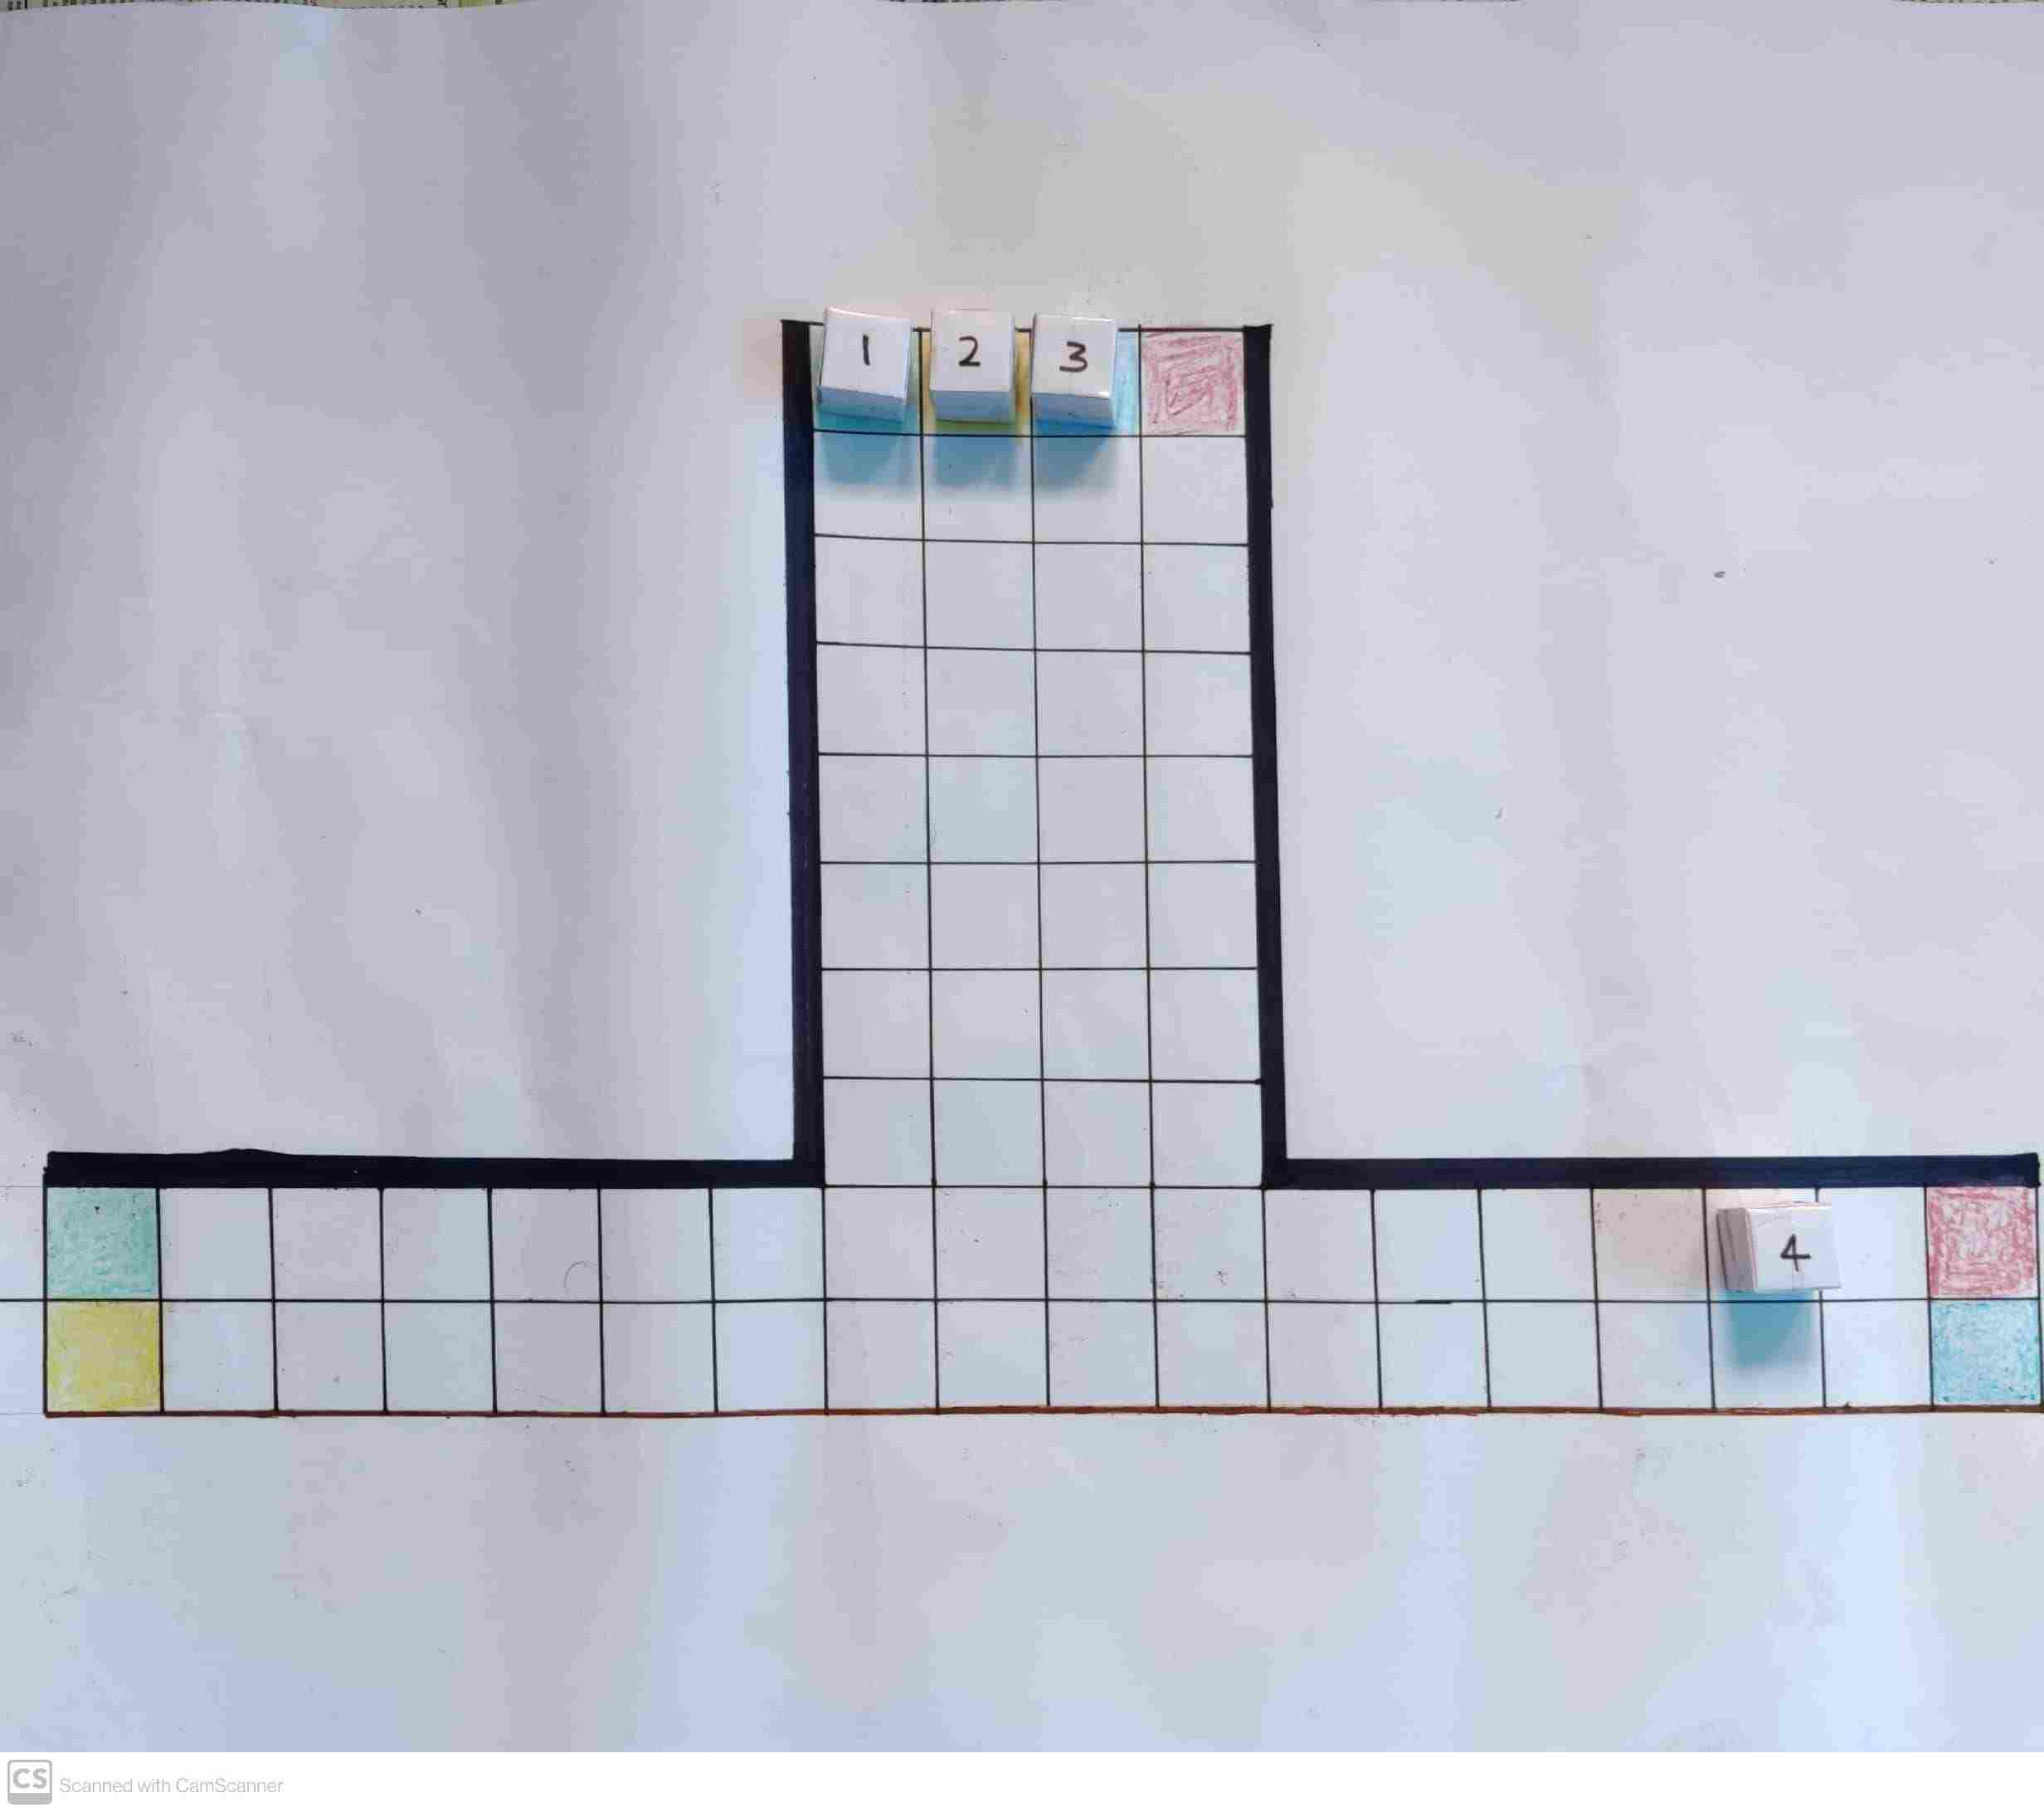arena: (42, 322, 2044, 1411)
bot: (1750, 1209, 1846, 1294), (822, 313, 911, 395), (1035, 313, 1119, 395), (934, 308, 1014, 394)
